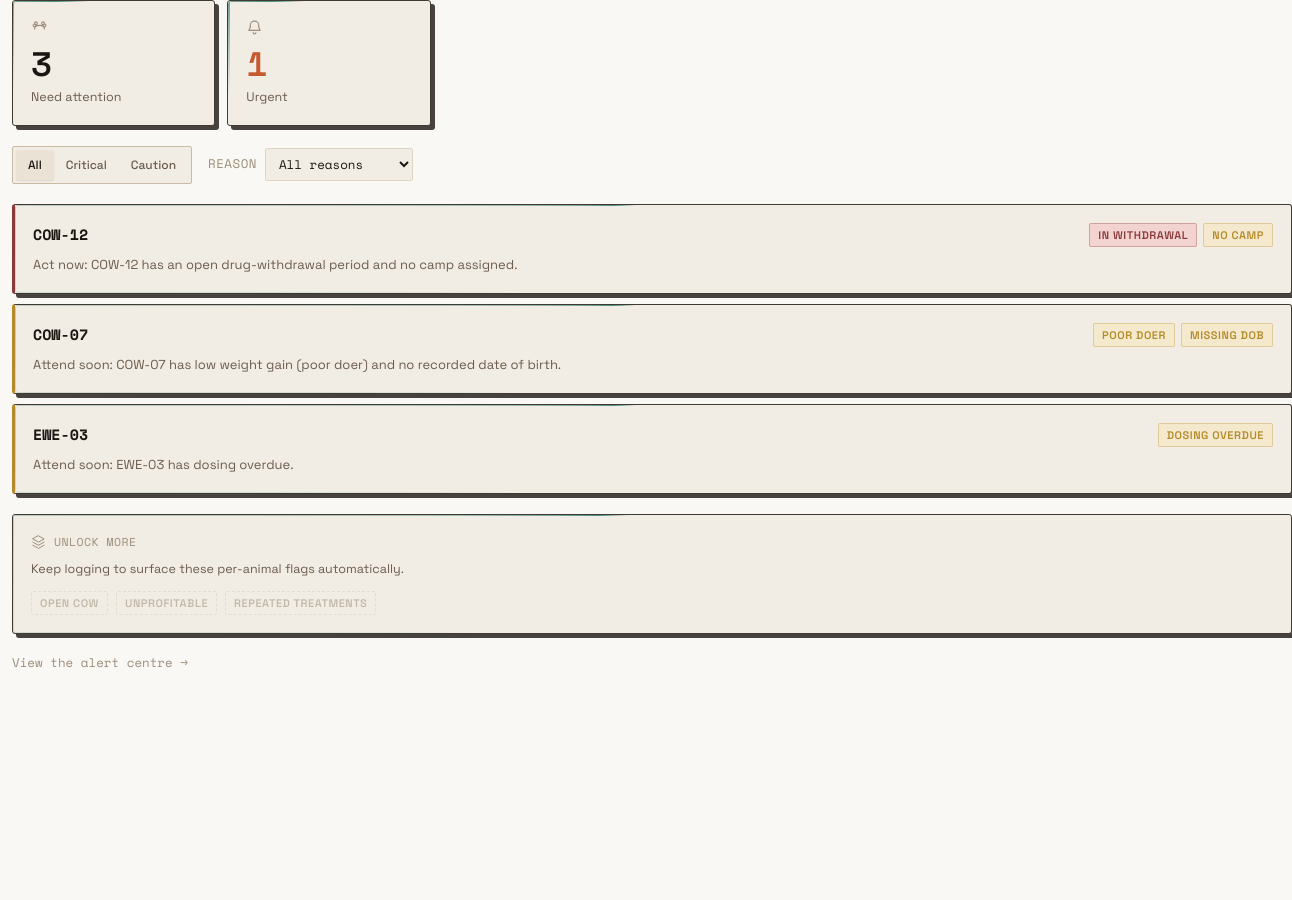
Test: TriageClient — severity filter (slice 2) › filters to amber-only items when Caution is selected
Step 1. Click the tab "Caution" → [153, 165], box [119, 150, 188, 180]
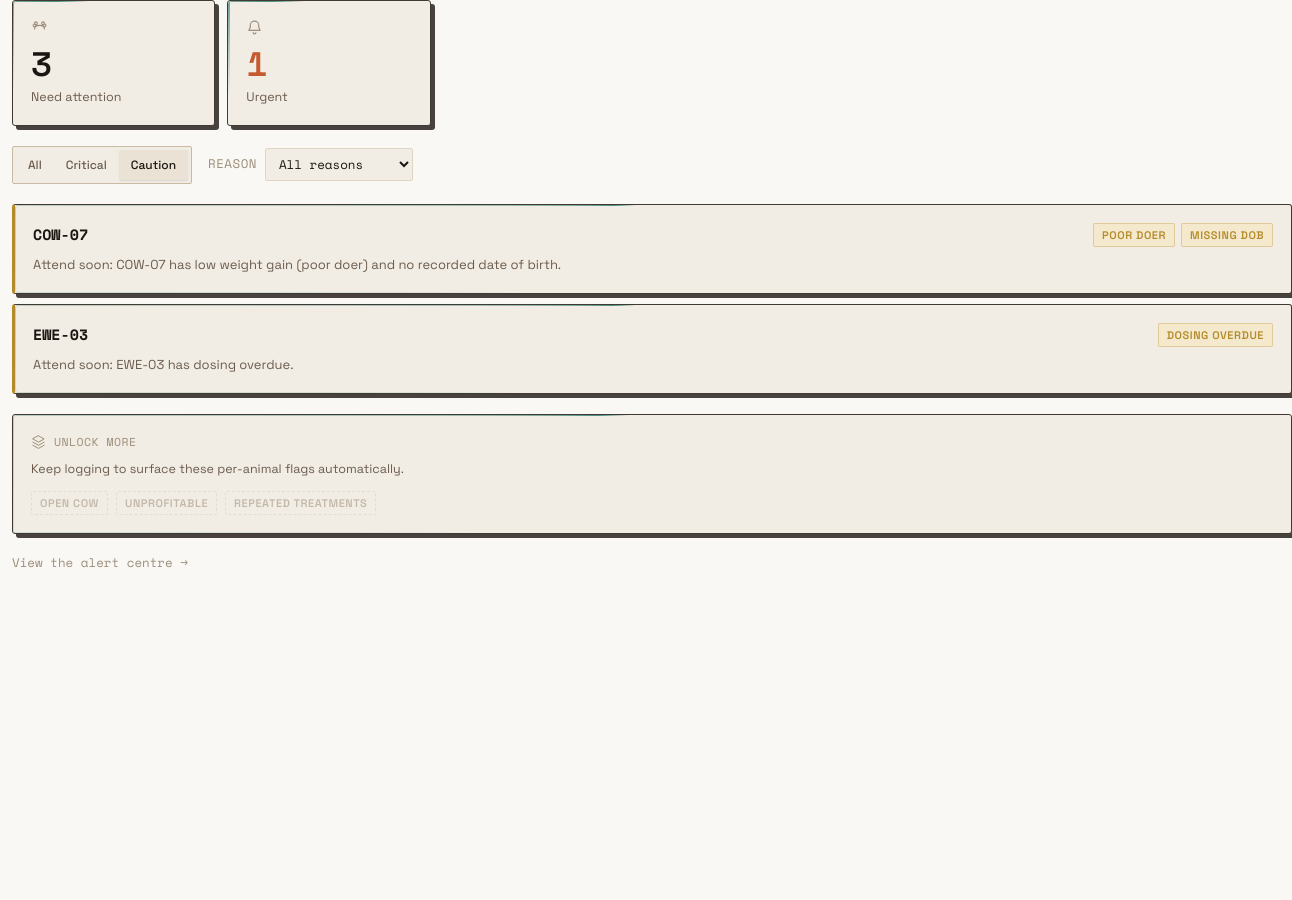
Check: the text "COW-07" is shown, box [33, 223, 88, 245]
Check: the link "COW-12" is gone
